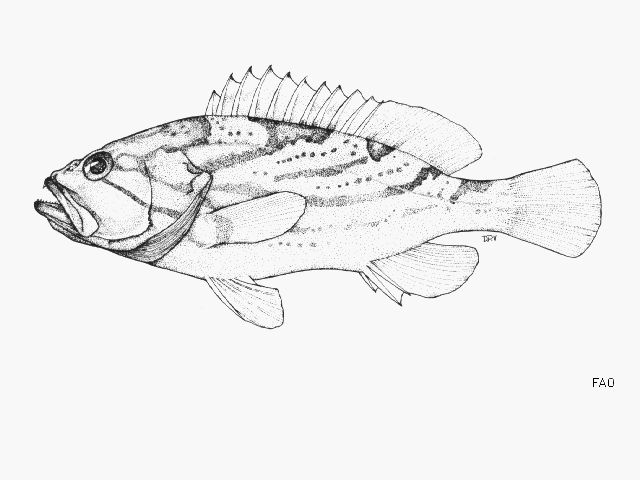fish: (34, 62, 602, 329)
